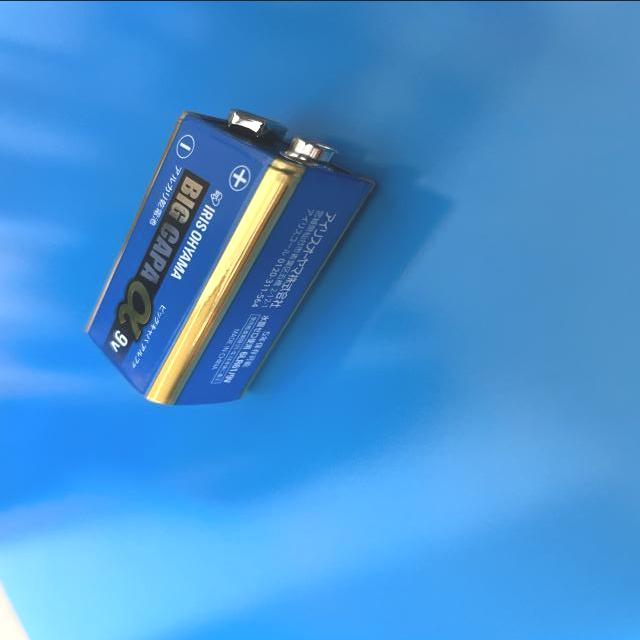9V: (87, 107, 371, 404)
